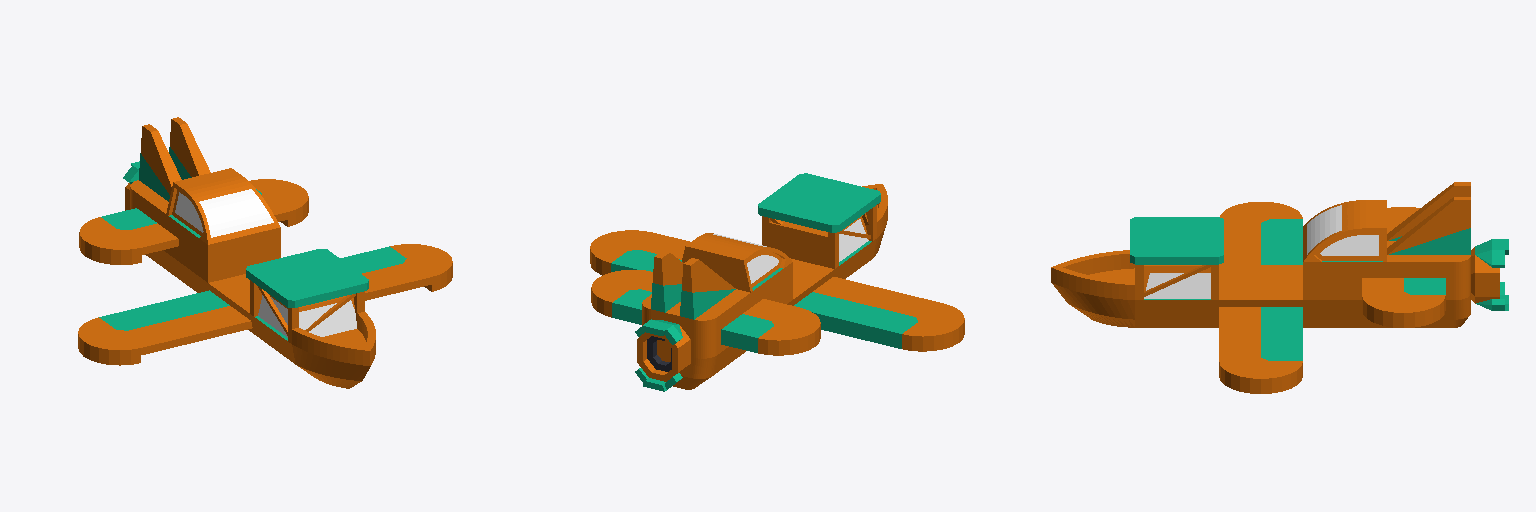
File: NautilusShip.obj
3 renders of one model, left to right at view 1: azimuth 30°, elevation 25°; view 2: azimuth 150°, elevation 25°; view 3: azimuth 270°, elevation 25°, orthographic.
Parts seen in each view (by area): view 1: mergedBlocks; view 2: mergedBlocks; view 3: mergedBlocks.
Boxes of the visible parts, <box> form: mergedBlocks: <box>78,117,452,388</box>; mergedBlocks: <box>590,173,964,391</box>; mergedBlocks: <box>1051,182,1508,393</box>.
Size of the model in its own units: 5 by 1.7 by 5.45.